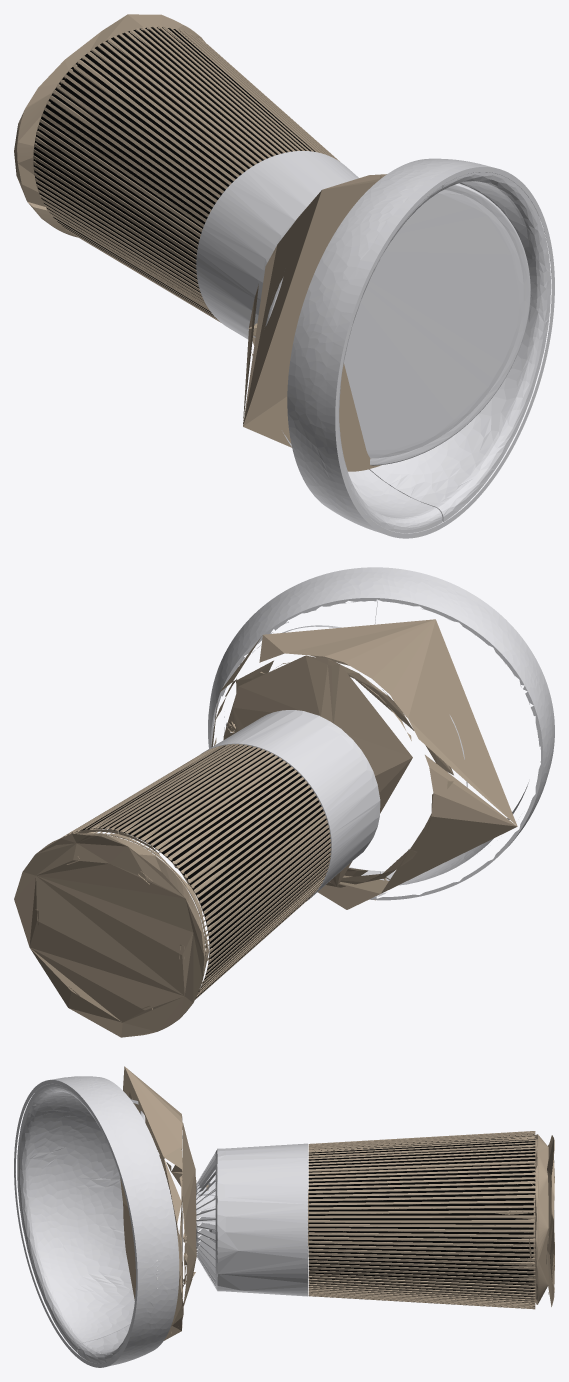
File: air_purifier.glb
3 views of the same model, one above another, from view 1: azimuth 30°, elevation 25°; view 2: azimuth 150°, elevation 25°; view 3: azimuth 270°, elevation 25° (orthographic). The views are drawn at different scales.
Parts seen in each view (by area): view 1: fabric_bump_4, body_0, thinq_blend_5, aircareair_3, logo_blend_2; view 2: body_0, thinq_blend_5, aircareair_3, logo_blend_2, fabric_bump_4; view 3: body_0, fabric_bump_4, aircareair_3, logo_blend_2, thinq_blend_5.
Boxes of the visible parts, x1=… form: fabric_bump_4: x1=265, y1=172, x2=550, y2=533; body_0: x1=14, y1=14, x2=386, y2=471; thinq_blend_5: x1=287, y1=158, x2=554, y2=538; aircareair_3: x1=33, y1=27, x2=314, y2=318; logo_blend_2: x1=196, y1=151, x2=358, y2=342; body_0: x1=14, y1=619, x2=517, y2=1037; thinq_blend_5: x1=208, y1=567, x2=554, y2=900; aircareair_3: x1=74, y1=745, x2=330, y2=997; logo_blend_2: x1=200, y1=710, x2=380, y2=901; fabric_bump_4: x1=224, y1=600, x2=528, y2=885; body_0: x1=120, y1=1066, x2=554, y2=1340; fabric_bump_4: x1=17, y1=1084, x2=145, y2=1363; aircareair_3: x1=308, y1=1134, x2=535, y2=1303; logo_blend_2: x1=195, y1=1143, x2=308, y2=1296; thinq_blend_5: x1=14, y1=1076, x2=179, y2=1367.
Bounding box in the file's own units: 0.4139 × 0.4209 × 0.7779.
